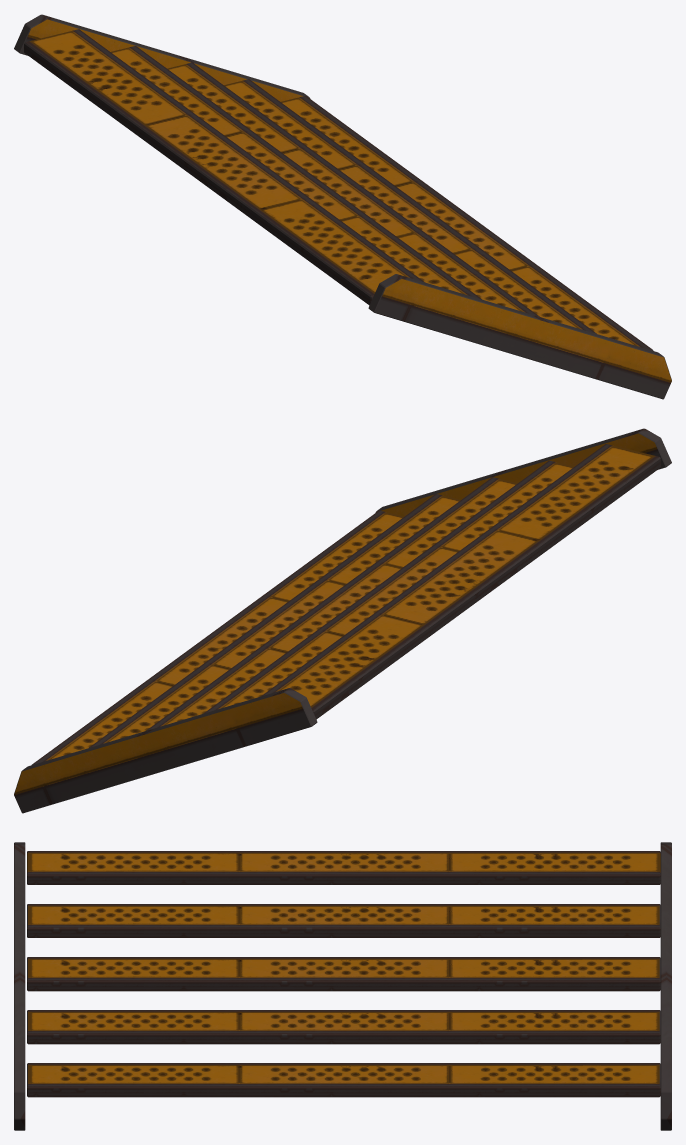
File: Steps.fbx
The picture shows the model from 3 angles, top to bottom: view 1: azimuth 30°, elevation 25°; view 2: azimuth 150°, elevation 25°; view 3: azimuth 270°, elevation 25°; orthographic projection. The views are drawn at different scales.
Parts seen in each view (by area): view 1: Steps_LOD0; view 2: Steps_LOD0; view 3: Steps_LOD0.
Part boxes in pixels (x1,y1,x2,y2): Steps_LOD0: [14, 14, 671, 399]; Steps_LOD0: [14, 428, 671, 813]; Steps_LOD0: [14, 842, 671, 1130].
Size of what is drawn, in the model's own units: 1.82 by 3.82 by 1.08.
